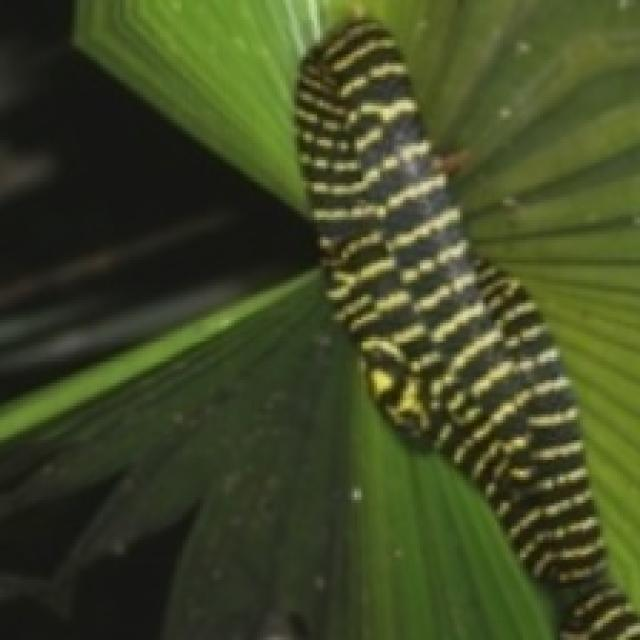mangrove cat snake: (297, 20, 637, 637)
